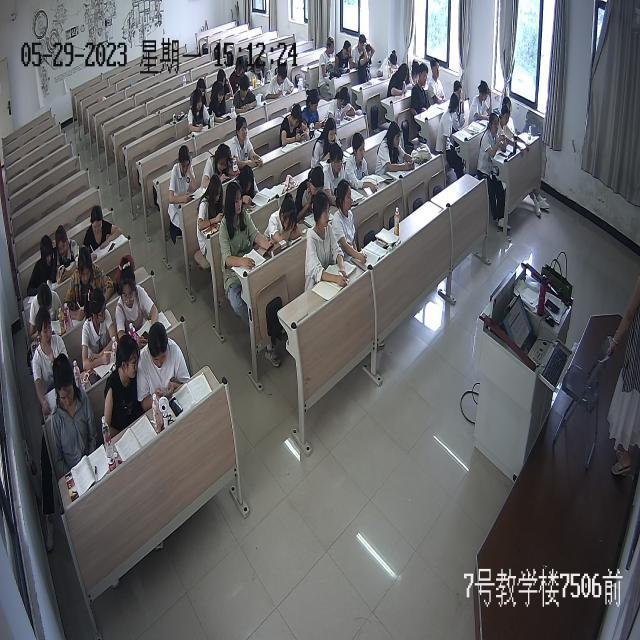distracted: (49, 359, 96, 466), (100, 336, 146, 432), (30, 312, 72, 394), (83, 288, 117, 370), (27, 285, 68, 337), (30, 235, 59, 297), (198, 178, 227, 232), (441, 92, 459, 138), (356, 45, 376, 84), (318, 38, 337, 79), (453, 82, 469, 130), (336, 43, 356, 76)
focused: (306, 193, 350, 289), (116, 264, 161, 340), (68, 252, 118, 320), (332, 182, 371, 267), (345, 134, 381, 198), (84, 206, 128, 254), (231, 116, 265, 172), (297, 166, 330, 218), (311, 118, 344, 170), (323, 146, 350, 202), (480, 114, 510, 158), (266, 64, 299, 100), (468, 80, 494, 124), (233, 76, 259, 115), (430, 56, 450, 104), (388, 63, 416, 95), (210, 83, 231, 124), (376, 48, 404, 78), (412, 64, 429, 113), (498, 103, 516, 146), (348, 35, 370, 66), (227, 56, 248, 88), (249, 58, 266, 88)
sleep: (264, 195, 303, 245)
using_phone: (220, 182, 275, 271), (136, 326, 193, 406), (378, 124, 420, 174), (170, 146, 200, 208), (53, 224, 84, 281), (280, 104, 314, 148), (202, 143, 235, 188), (236, 164, 262, 214), (187, 89, 214, 137), (302, 89, 329, 132), (329, 88, 359, 126)
